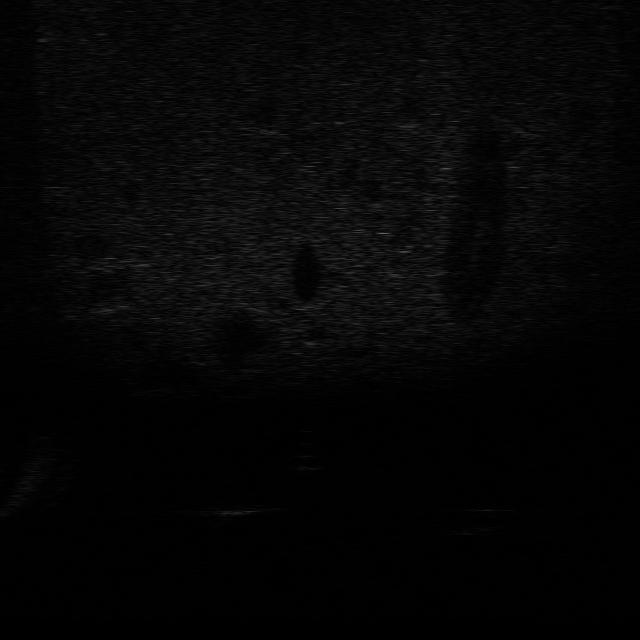ball: (284, 442, 326, 474)
square cage: (208, 496, 270, 525)
tyre: (449, 503, 506, 538)
